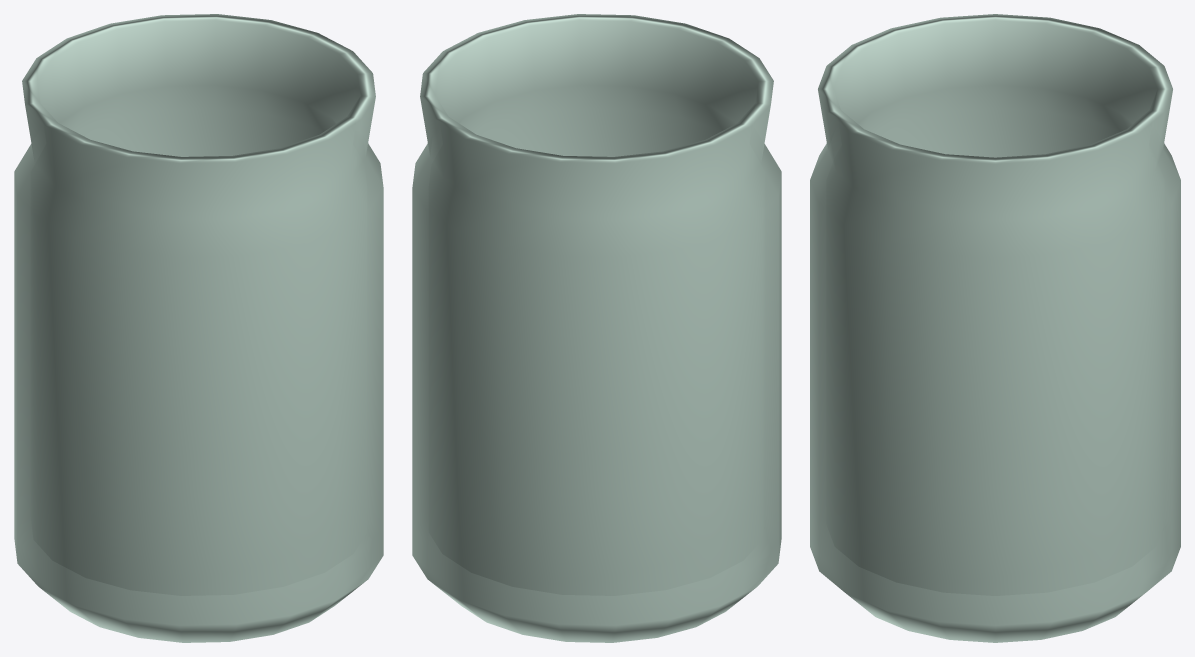
Rendered from Jar_Open.fbx.
The picture shows the model from 3 angles, left to right: view 1: azimuth 30°, elevation 25°; view 2: azimuth 150°, elevation 25°; view 3: azimuth 270°, elevation 25°; orthographic projection.
Visible parts, largest first — view 1: pCylinder69; view 2: pCylinder69; view 3: pCylinder69.
Part boxes in pixels (box(x1,y1,x2,y2)): pCylinder69: box(14, 14, 383, 642); pCylinder69: box(412, 14, 781, 642); pCylinder69: box(810, 14, 1180, 642).
Bounding box in the file's own units: 5.56 × 8.13 × 5.56.
